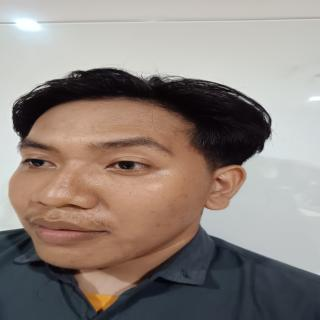Takut: (4, 93, 233, 278)
